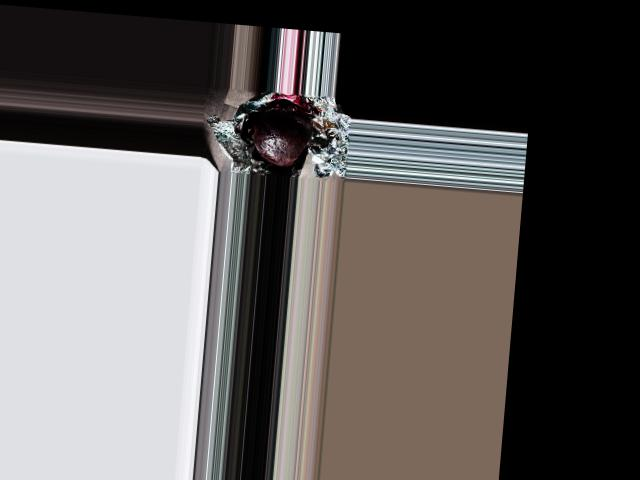beet: (250, 107, 315, 168)
